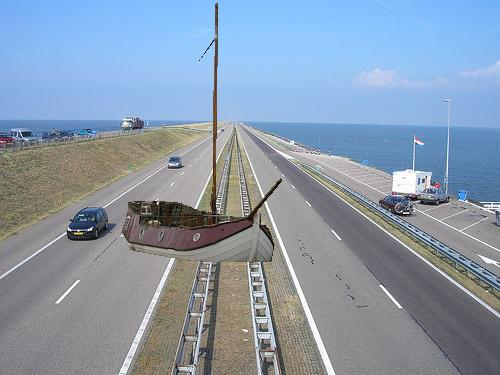tampered: (122, 4, 282, 262)
